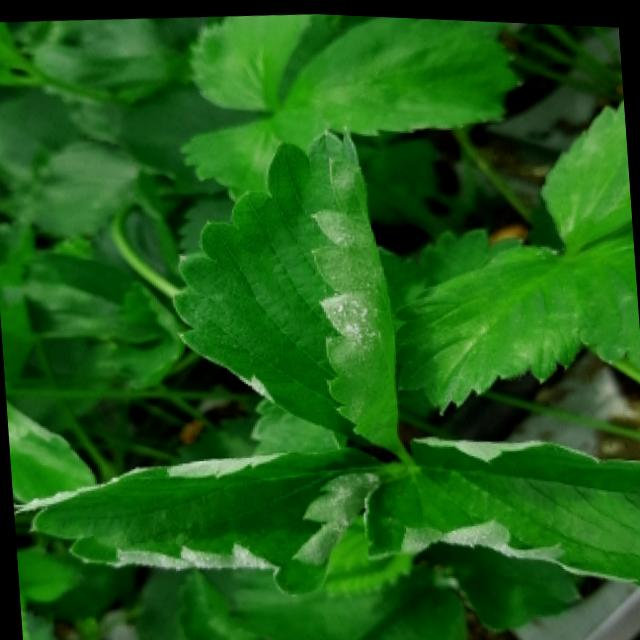Powdery Mildew Leaf: (172, 122, 402, 450), (12, 447, 384, 596), (360, 429, 640, 583)
